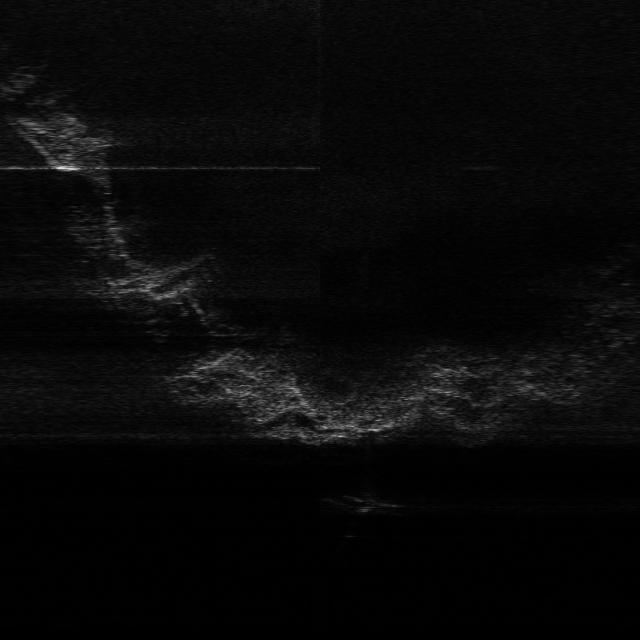plane: (342, 484, 408, 515)
